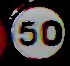Speed limit: (8, 3, 69, 58)
